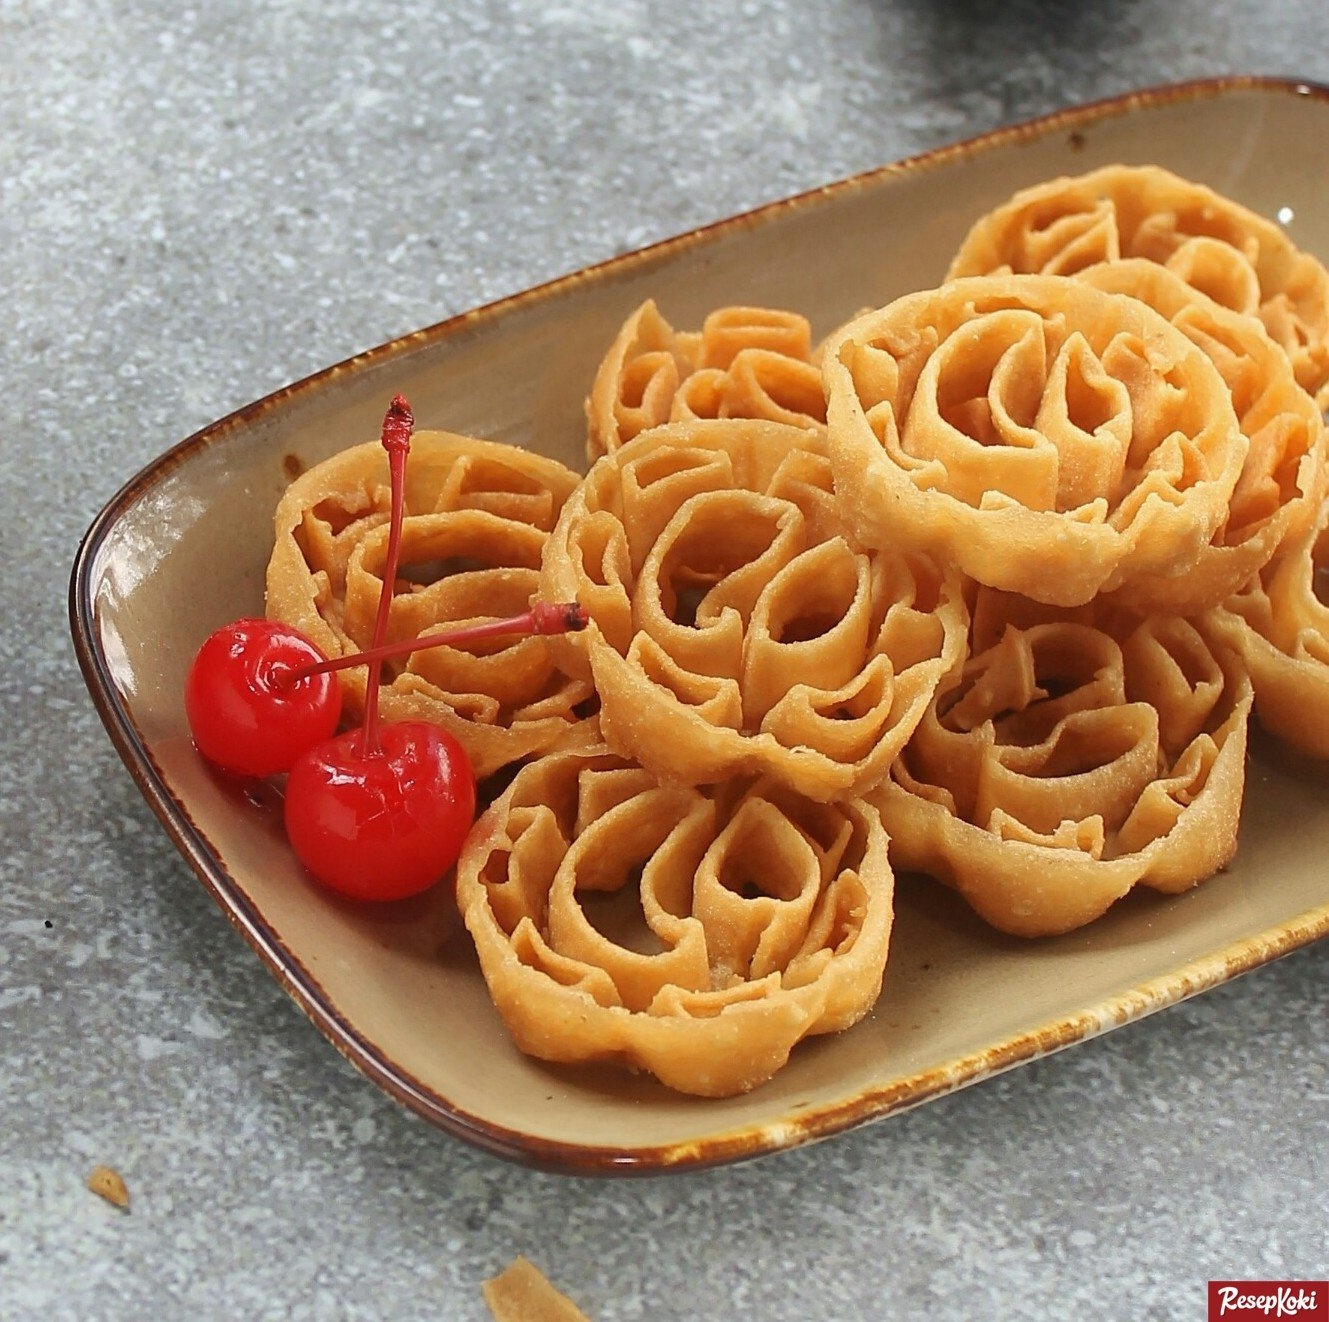kembang_goyang: (851, 274, 1262, 590)
